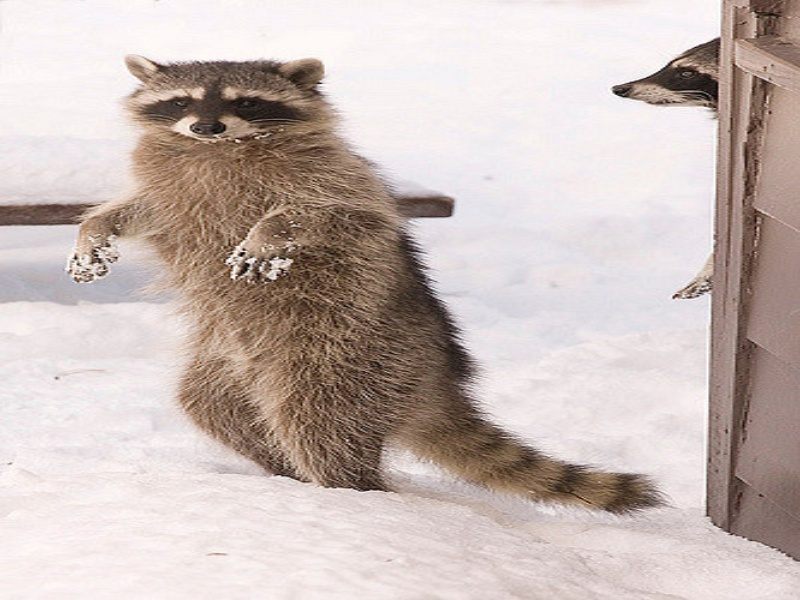raccoon: (54, 51, 661, 523), (612, 30, 722, 297)
